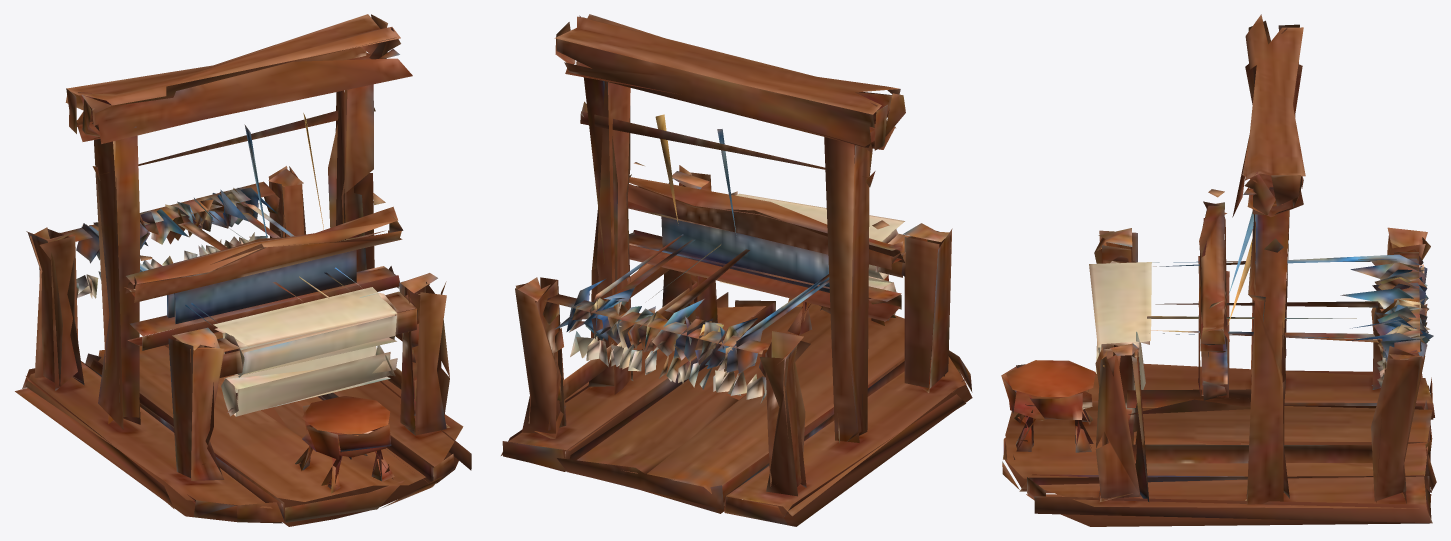
File: at-metier-semis.glb
3 views of the same model, side by side, from view 1: azimuth 30°, elevation 25°; view 2: azimuth 150°, elevation 25°; view 3: azimuth 270°, elevation 25° (orthographic). The views are drawn at different scales.
Parts seen in each view (by area): view 1: at-metier-semis; view 2: at-metier-semis; view 3: at-metier-semis.
Boxes of the visible parts, <box> form: at-metier-semis: <box>15,14,471,526</box>; at-metier-semis: <box>501,14,972,526</box>; at-metier-semis: <box>1001,14,1436,526</box>.
Bounding box in the file's own units: 0.8115 × 0.8932 × 0.9582.
Materials: 1 (1 with a texture image).
